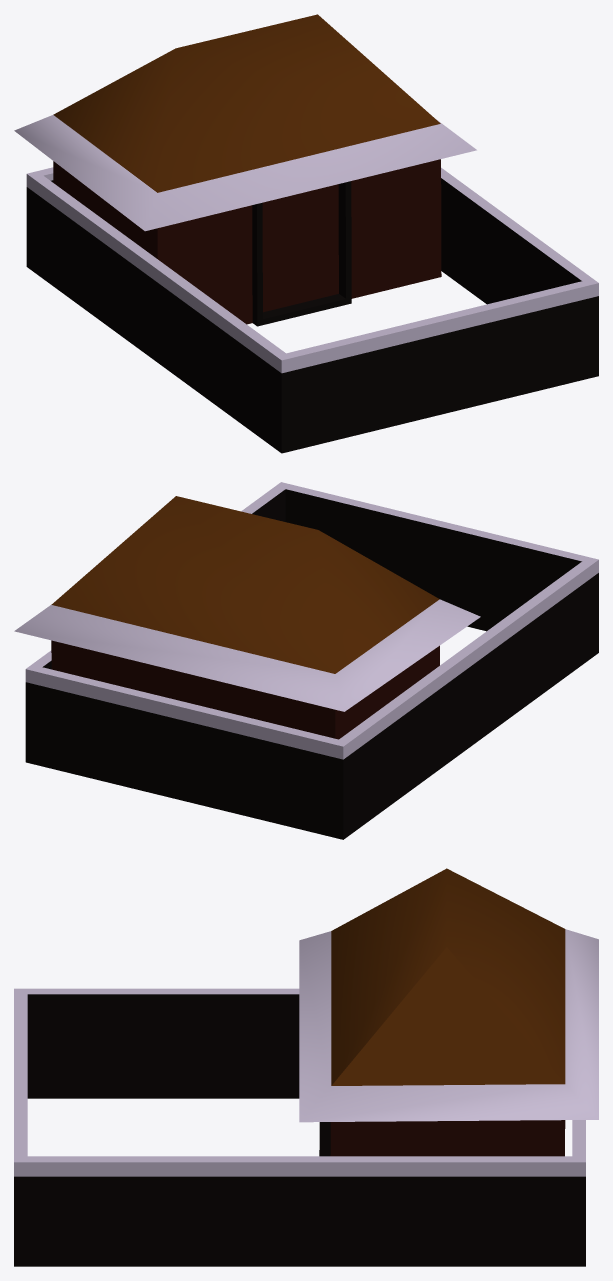
Rendered from barrack.obj.
The picture shows the model from 3 angles, top to bottom: view 1: azimuth 30°, elevation 25°; view 2: azimuth 150°, elevation 25°; view 3: azimuth 270°, elevation 25°; orthographic projection. The views are drawn at different scales.
Parts seen in each view (by area): view 1: Cube.006; view 2: Cube.006; view 3: Cube.006.
Part boxes in pixels (<box>): Cube.006: <box>14,14,598,453</box>; Cube.006: <box>14,482,598,839</box>; Cube.006: <box>14,868,598,1266</box>.
Bounding box in the file's own units: 4.65 × 3.24 × 6.31.
